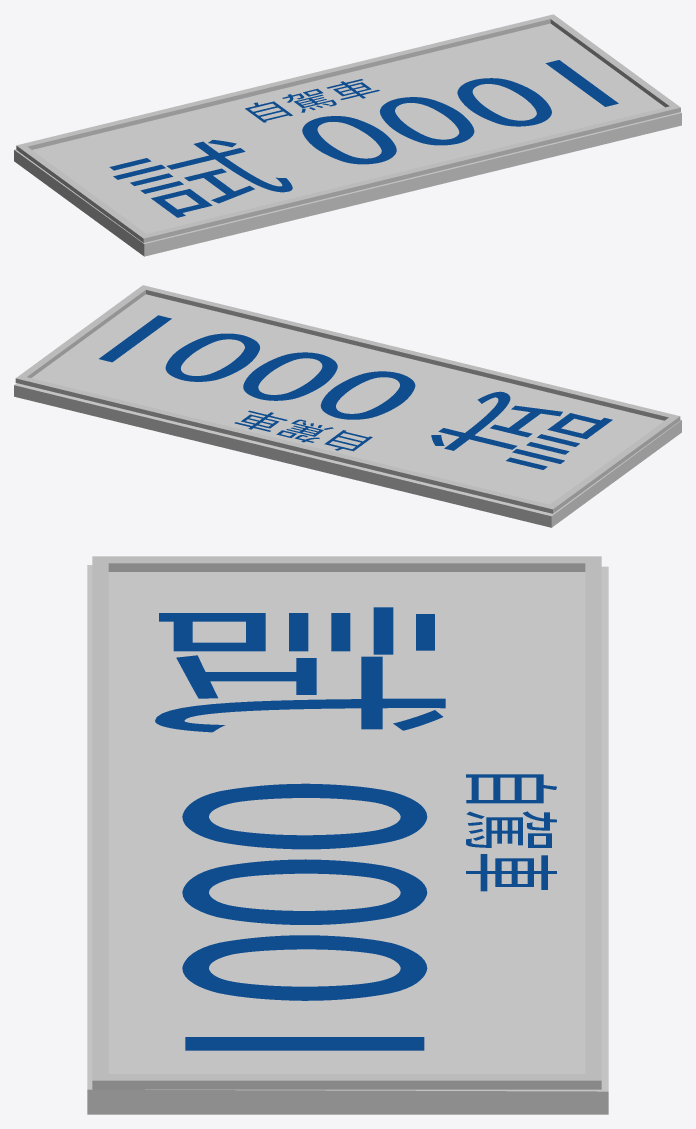
File: license_plate.dae
3 views of the same model, one above another, from view 1: azimuth 30°, elevation 25°; view 2: azimuth 150°, elevation 25°; view 3: azimuth 270°, elevation 25° (orthographic). The views are drawn at different scales.
Visible parts, largest first — view 1: instance_0, Cube_001, Curve_003, Curve_004, Curve_006, Curve_005, Curve_007, Curve_001, Curve_002, Curve; view 2: instance_0, Cube_001, Curve_003, Curve_005, Curve_004, Curve_006, Curve_007, Curve_001, Curve_002, Curve; view 3: instance_0, Cube_001, Curve_003, Curve_006, Curve_004, Curve_005, Curve_007, Curve_001, Curve_002, Curve.
Part boxes in pixels (x1,y1,x2,y2): instance_0: (14, 23, 681, 256); Cube_001: (16, 14, 680, 242); Curve_003: (109, 140, 292, 217); Curve_004: (302, 116, 396, 164); Curve_006: (457, 78, 551, 126); Curve_005: (380, 97, 474, 145); Curve_007: (545, 60, 618, 106); Curve_001: (282, 88, 336, 112); Curve_002: (326, 79, 379, 99); Curve: (245, 101, 292, 122); instance_0: (14, 294, 681, 527); Cube_001: (15, 285, 680, 513); Curve_003: (431, 391, 612, 469); Curve_005: (243, 352, 337, 400); Curve_004: (320, 371, 415, 419); Curve_006: (165, 333, 259, 381); Curve_007: (99, 315, 171, 362); Curve_001: (276, 419, 333, 442); Curve_002: (234, 410, 287, 431); Curve: (324, 430, 372, 451); instance_0: (87, 565, 608, 1114); Cube_001: (92, 556, 601, 1089); Curve_003: (155, 607, 445, 732); Curve_006: (182, 935, 427, 1000); Curve_004: (182, 783, 427, 849); Curve_005: (182, 859, 427, 924); Curve_007: (185, 1037, 424, 1050); Curve_001: (466, 811, 556, 847); Curve_002: (466, 854, 556, 891); Curve: (466, 774, 556, 803).
Size of the model in its own units: 0.3804 by 0.1597 by 0.0115.
